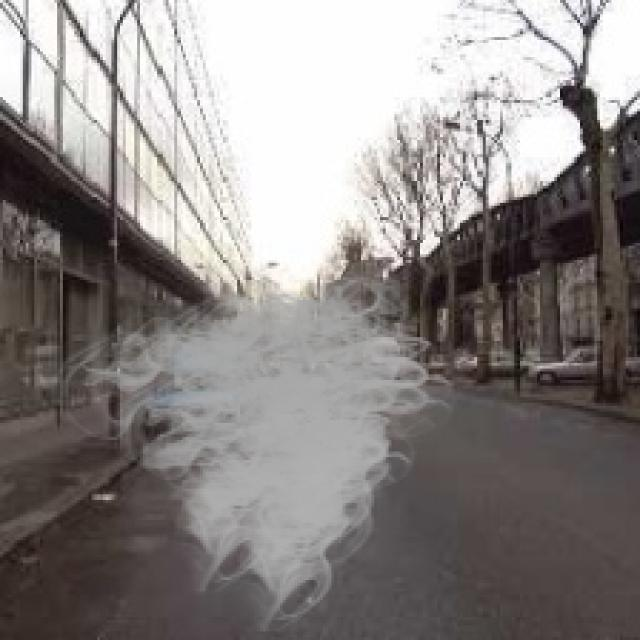smoke: (46, 252, 468, 632)
